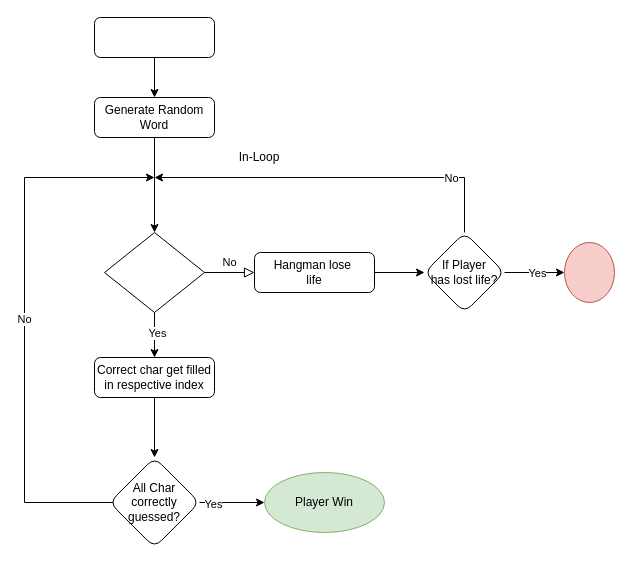
Image size: 632x565. Some labels were removed from this diagram. The box of each missing label's shape, as (x1, y1, x2, y2) in pixels:
Game Begin: (94, 16, 214, 58)
Game Over: (564, 242, 614, 302)
Player Guess Correct Char: (104, 232, 204, 312)
